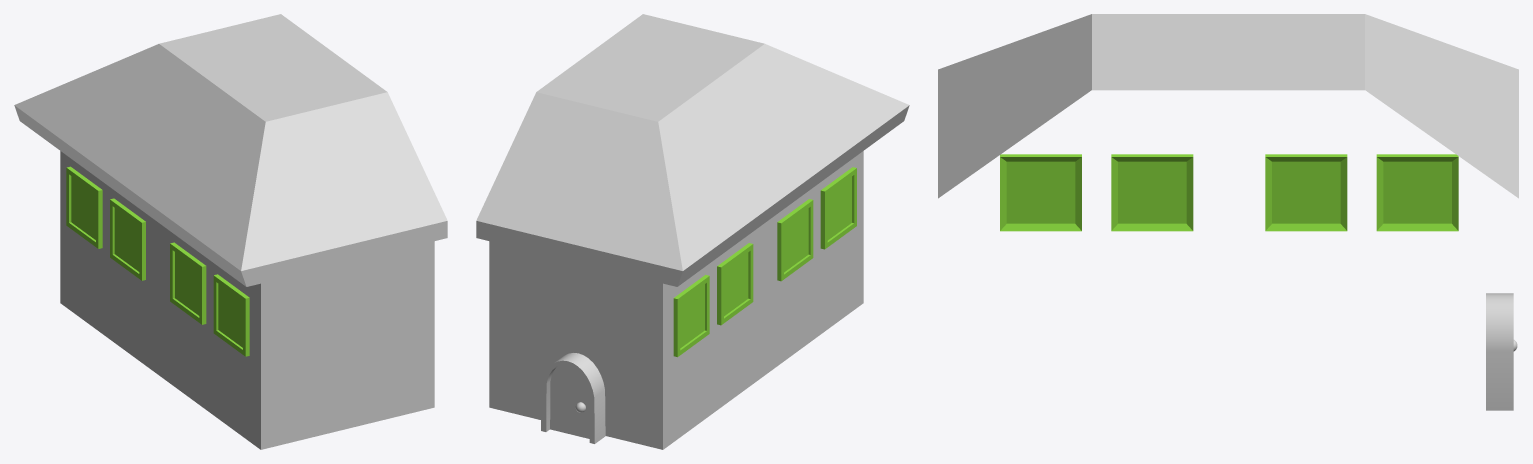
The model's file is House1_Mesh.glb.
3 renders of one model, left to right at view 1: azimuth 30°, elevation 25°; view 2: azimuth 150°, elevation 25°; view 3: azimuth 270°, elevation 25°, orthographic. The views are drawn at different scales.
Visible parts, largest first — view 1: Cube.046, Window.003, Window.002, Window, Window.001; view 2: Cube.046, Cylinder.008, Window.001, Window, Window.003, Window.002; view 3: Cube.046, Window.001, Window.002, Window, Window.003, Cylinder.008.
Boxes of the visible parts, <box> form: Cube.046: <box>14,14,447,449</box>; Window.003: <box>213,274,249,356</box>; Window.002: <box>170,242,206,324</box>; Window: <box>66,166,102,248</box>; Window.001: <box>110,198,145,280</box>; Cube.046: <box>476,14,909,449</box>; Cylinder.008: <box>541,353,605,443</box>; Window.001: <box>717,243,753,325</box>; Window: <box>673,274,709,357</box>; Window.003: <box>820,167,856,249</box>; Window.002: <box>777,199,813,281</box>; Cube.046: <box>938,14,1518,198</box>; Window.001: <box>1265,154,1347,231</box>; Window.002: <box>1111,154,1193,231</box>; Window: <box>1376,154,1458,231</box>; Window.003: <box>1000,154,1081,231</box>; Cylinder.008: <box>1486,293,1513,410</box>.
Bounding box in the file's own units: 15.72 × 20.43 × 29.89.
